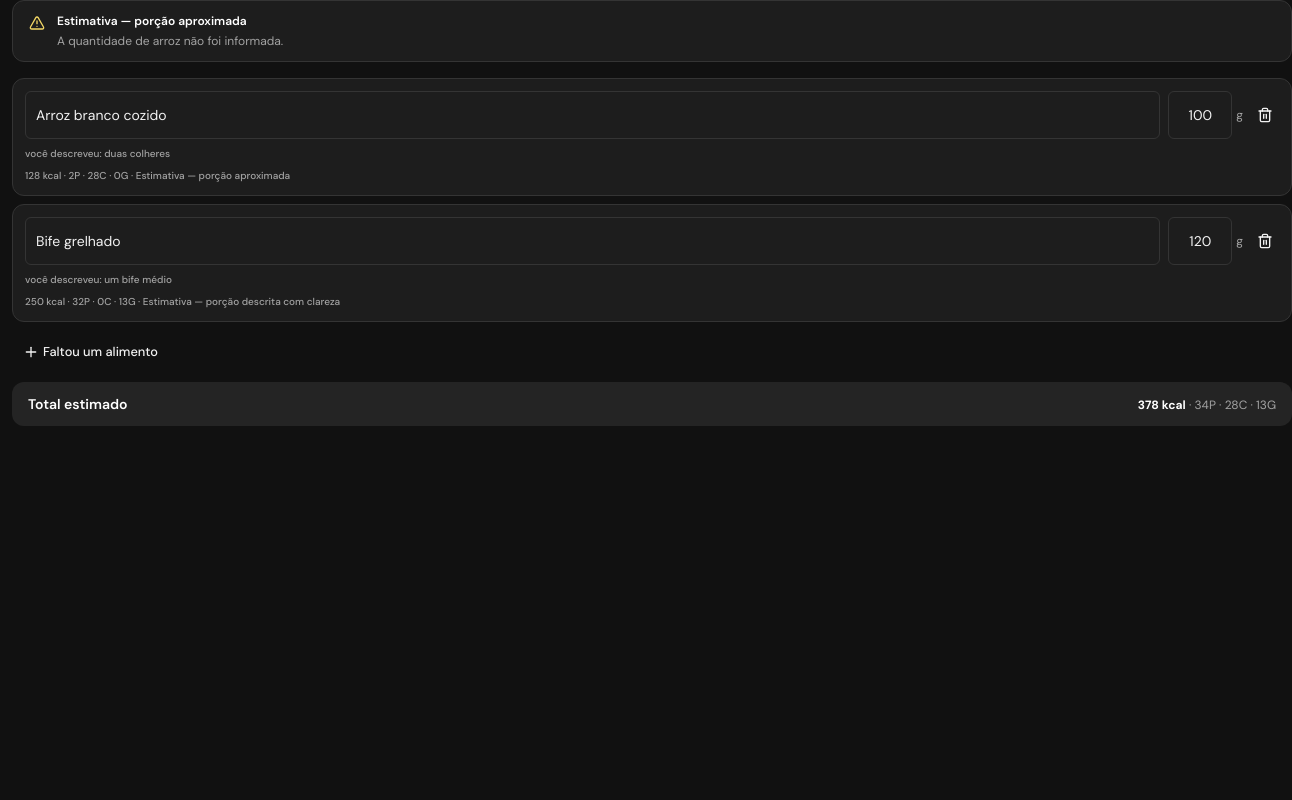
Test: RevisaoEstimativa › acrescentar um alimento nunca pede energia nem macros ao atleta
Click the button "Faltou um alimento". click: x=90, y=352
box: [12,338,169,366]
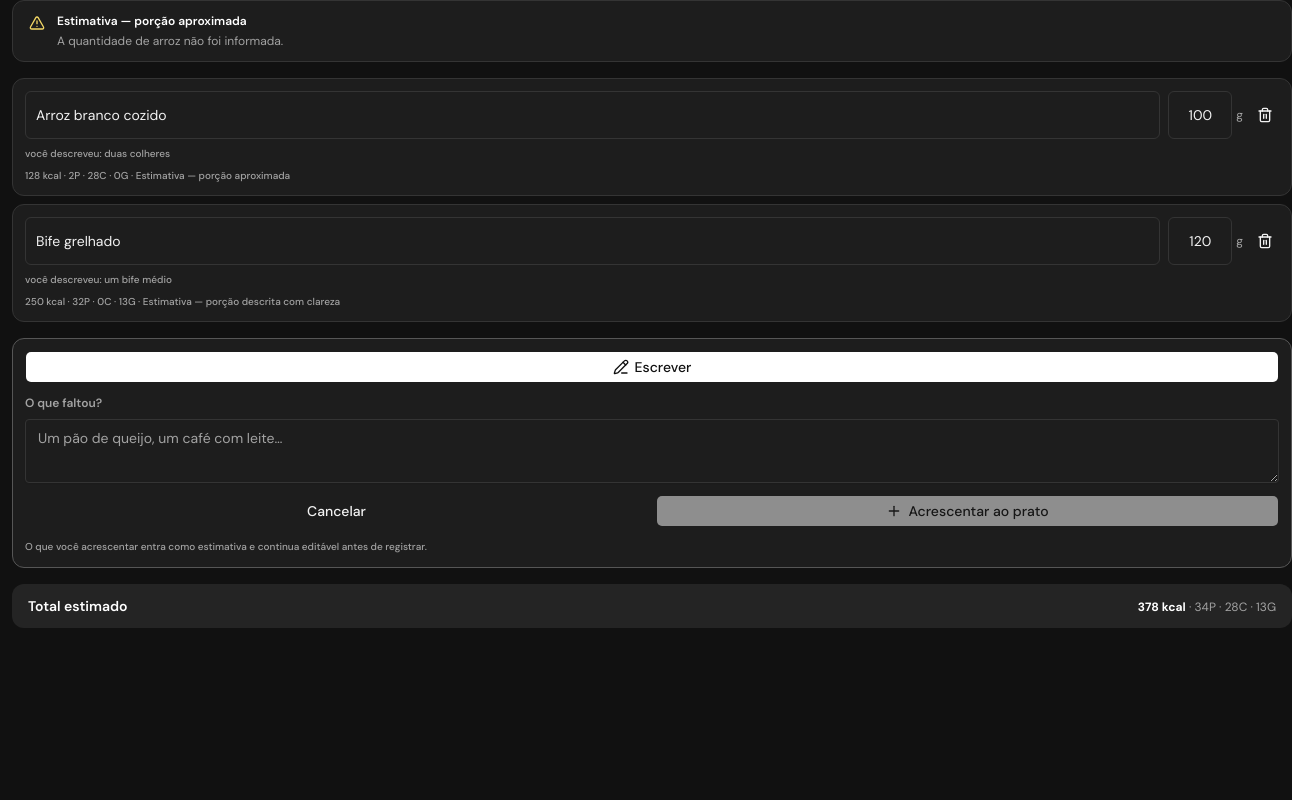
Check: the text box labelled "O que faltou?" is shown, box [25,419,1279,483]
